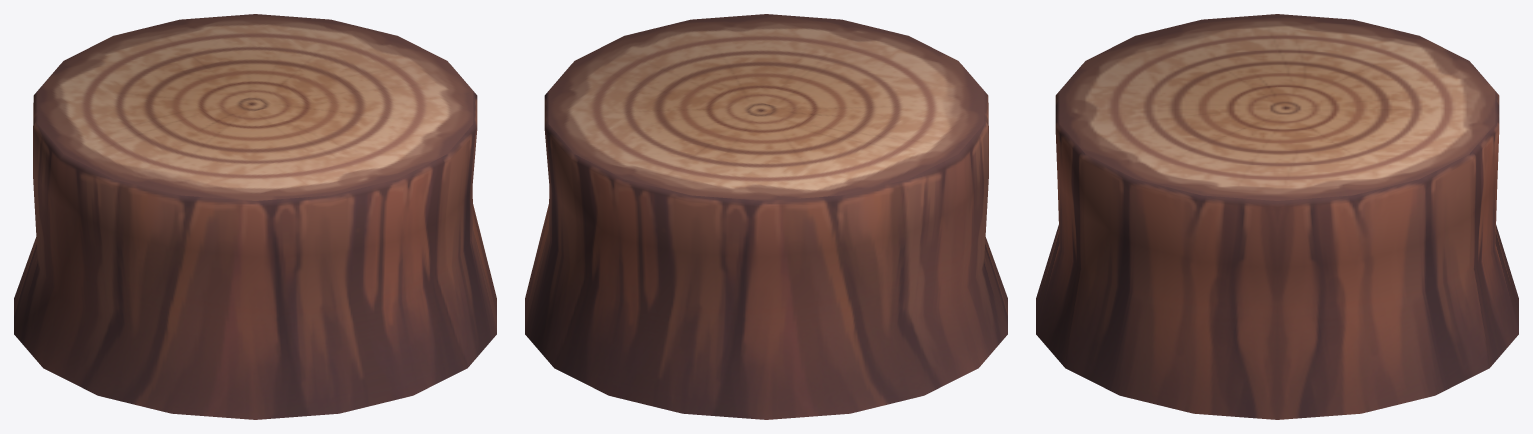
The model's file is Stump_02.fbx.
3 views of the same model, side by side, from view 1: azimuth 30°, elevation 25°; view 2: azimuth 150°, elevation 25°; view 3: azimuth 270°, elevation 25° (orthographic).
Visible parts, largest first — view 1: Object011; view 2: Object011; view 3: Object011.
Boxes of the visible parts, x1,y1,x2,y2 form: Object011: (14, 14, 496, 419); Object011: (525, 14, 1007, 419); Object011: (1036, 14, 1518, 419).
Size of the model in its own units: 106 by 49.94 by 105.
